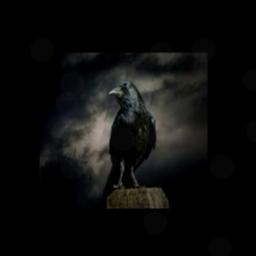Crow: (102, 81, 155, 197)
